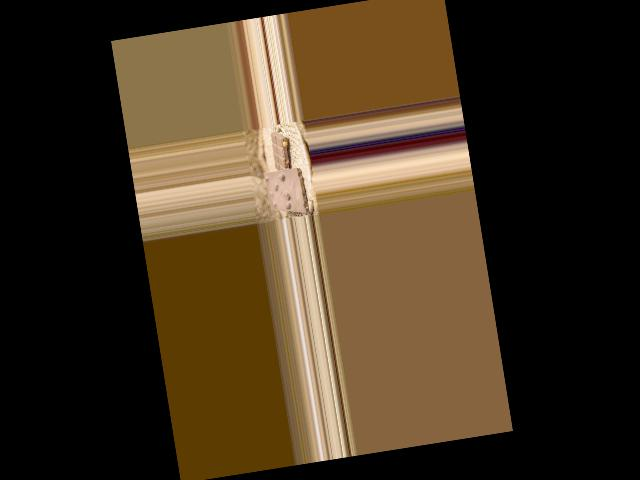chocolate: (262, 163, 309, 218)
